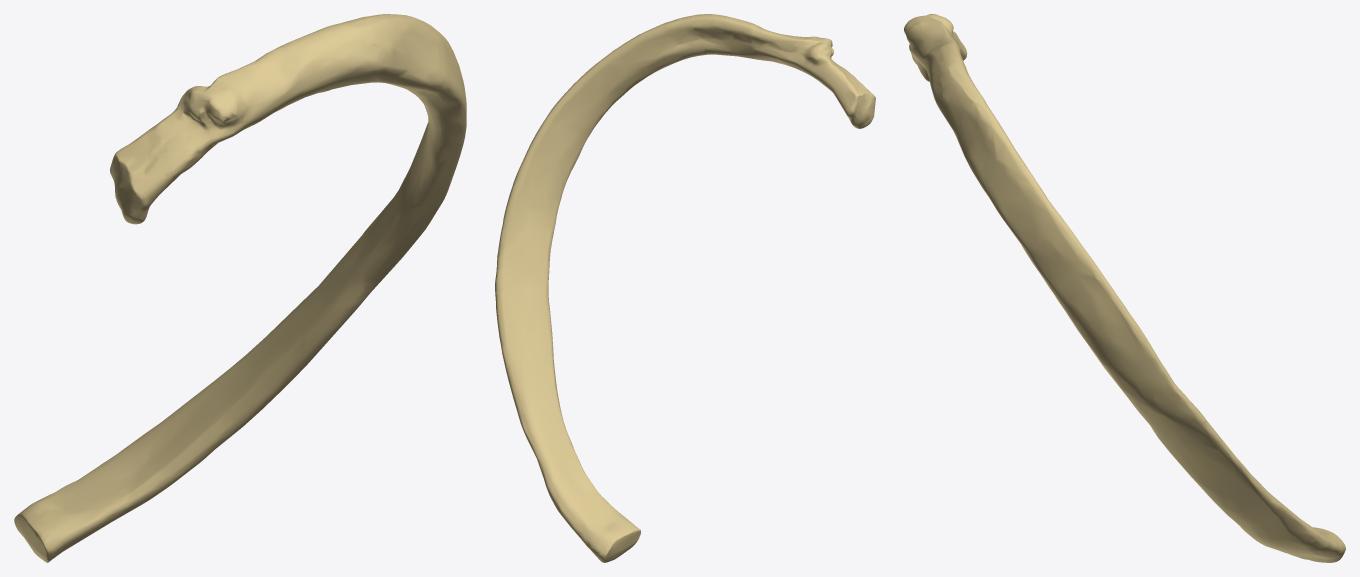
3 renders of one model, left to right at view 1: azimuth 30°, elevation 25°; view 2: azimuth 150°, elevation 25°; view 3: azimuth 270°, elevation 25°, orthographic. The views are drawn at different scales.
Visible parts, largest first — view 1: 左侧第三肋; view 2: 左侧第三肋; view 3: 左侧第三肋.
Boxes of the visible parts, bbox=[...] form: 左侧第三肋: bbox=[14, 14, 466, 562]; 左侧第三肋: bbox=[495, 14, 875, 562]; 左侧第三肋: bbox=[904, 14, 1345, 562].
Size of the model in its own units: 0.1407 by 0.2051 by 0.1559.
